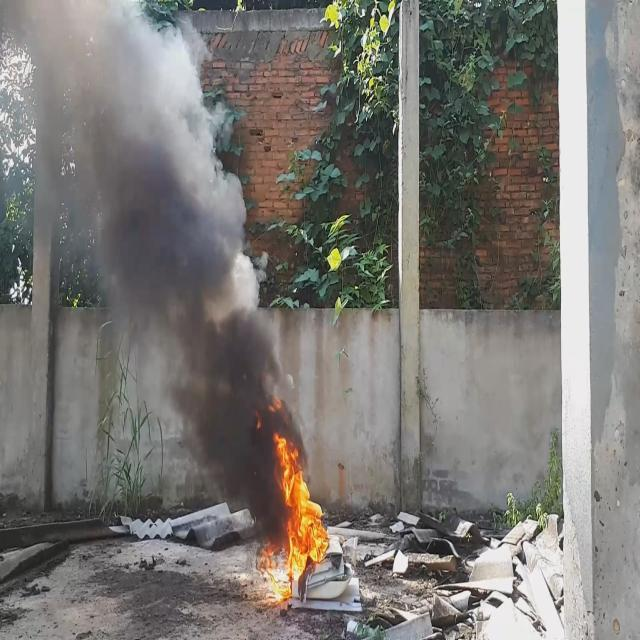Fire: (258, 396, 330, 605)
Smoke: (0, 0, 295, 549)
